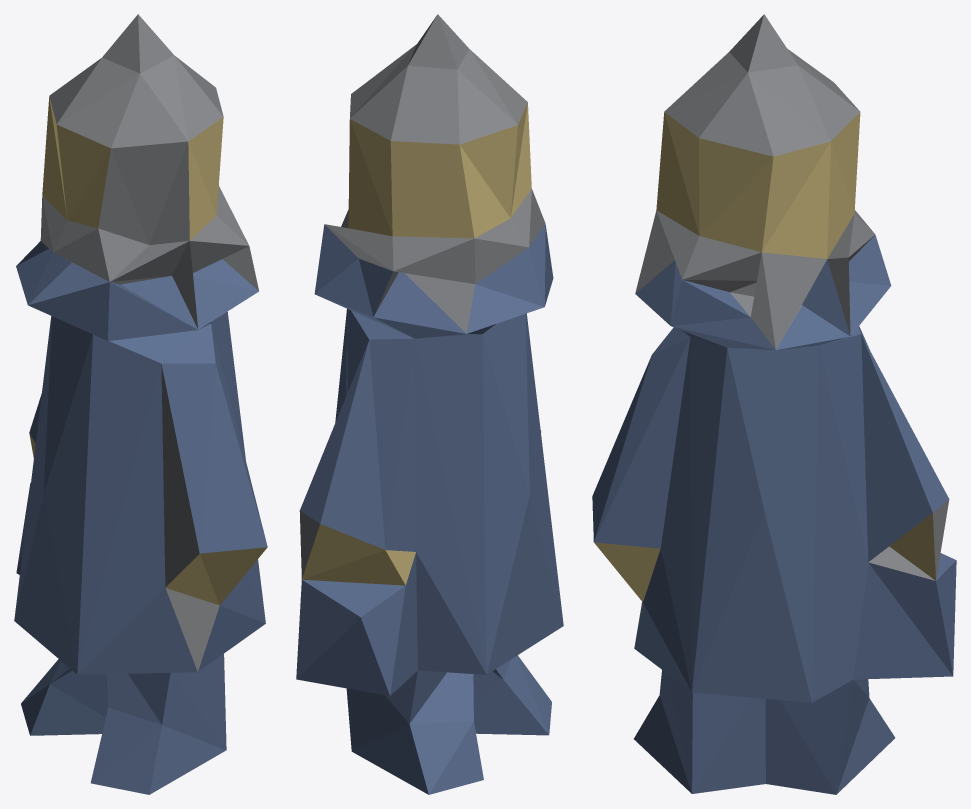
3 renders of one model, left to right at view 1: azimuth 30°, elevation 25°; view 2: azimuth 150°, elevation 25°; view 3: azimuth 270°, elevation 25°, orthographic. The views are drawn at different scales.
Parts seen in each view (by area): view 1: lion-200.001; view 2: lion-200.001; view 3: lion-200.001.
Part boxes in pixels (x1,y1,x2,y2): lion-200.001: (14, 14, 267, 794); lion-200.001: (296, 14, 563, 794); lion-200.001: (592, 14, 956, 794).
Bounding box in the file's own units: 0.3206 × 1.03 × 0.4512.
